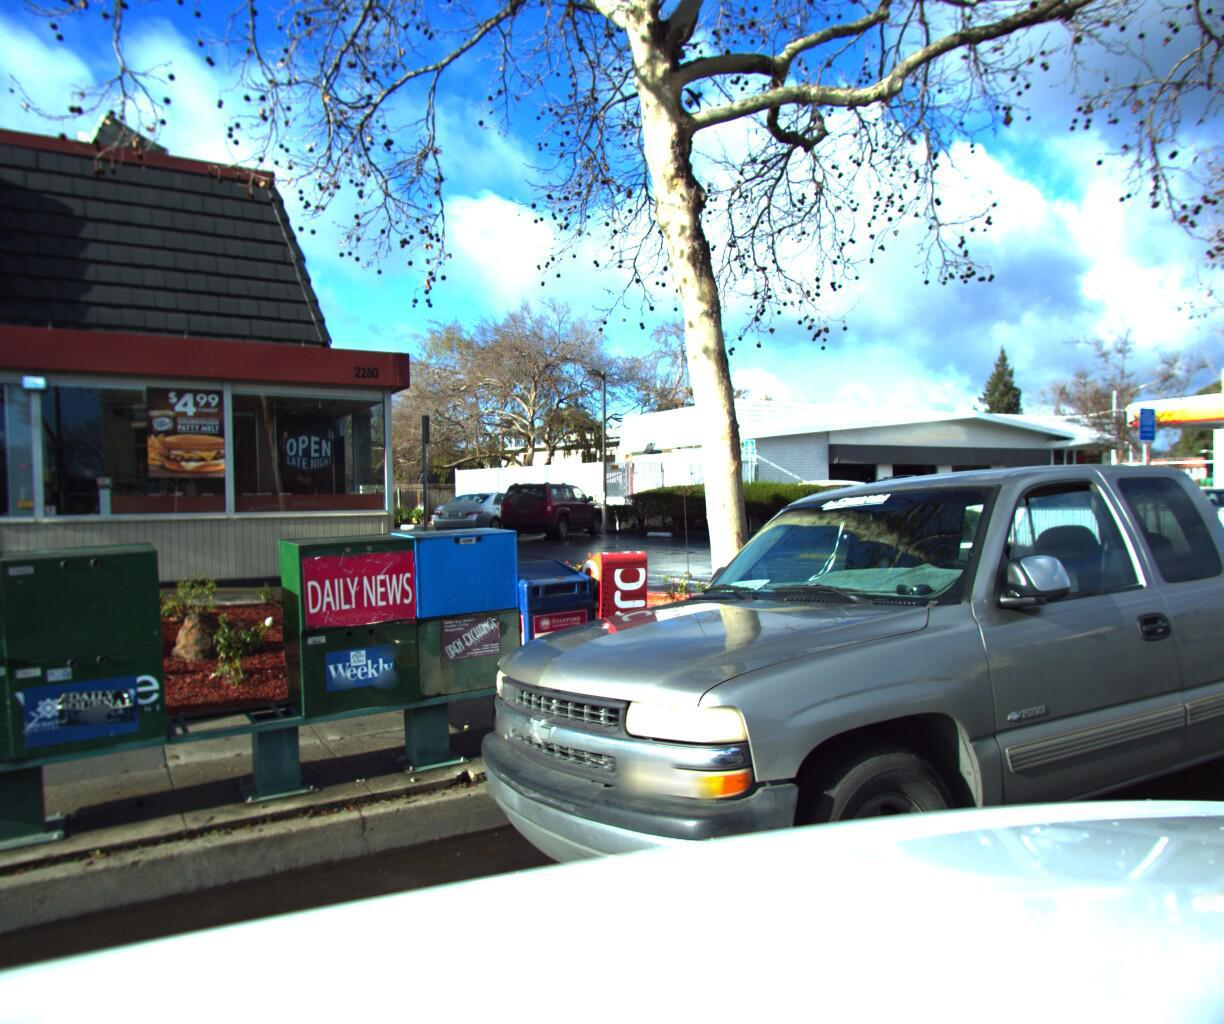car: (425, 423, 1224, 1024), (940, 481, 1082, 540), (1036, 478, 1170, 534), (497, 477, 610, 540), (865, 469, 1002, 518), (983, 478, 1109, 529), (901, 464, 1015, 517), (428, 487, 548, 537), (1133, 478, 1224, 540), (1150, 478, 1224, 553), (791, 475, 906, 521), (811, 471, 912, 513), (1077, 465, 1179, 505), (856, 441, 952, 481)
